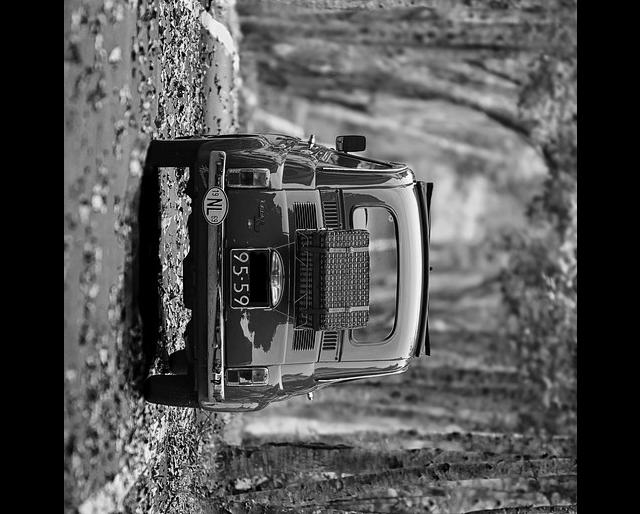Non_Gorille: (70, 20, 525, 491)
